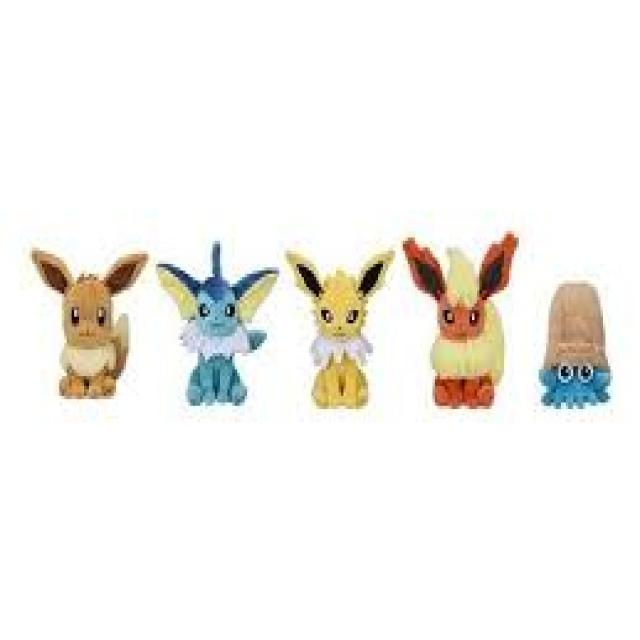Eevee: (52, 257, 130, 401)
Flareon: (412, 242, 508, 410)
Jolteon: (302, 257, 383, 412)
Omanyte: (538, 281, 612, 407)
Vaporeon: (170, 255, 263, 404)
